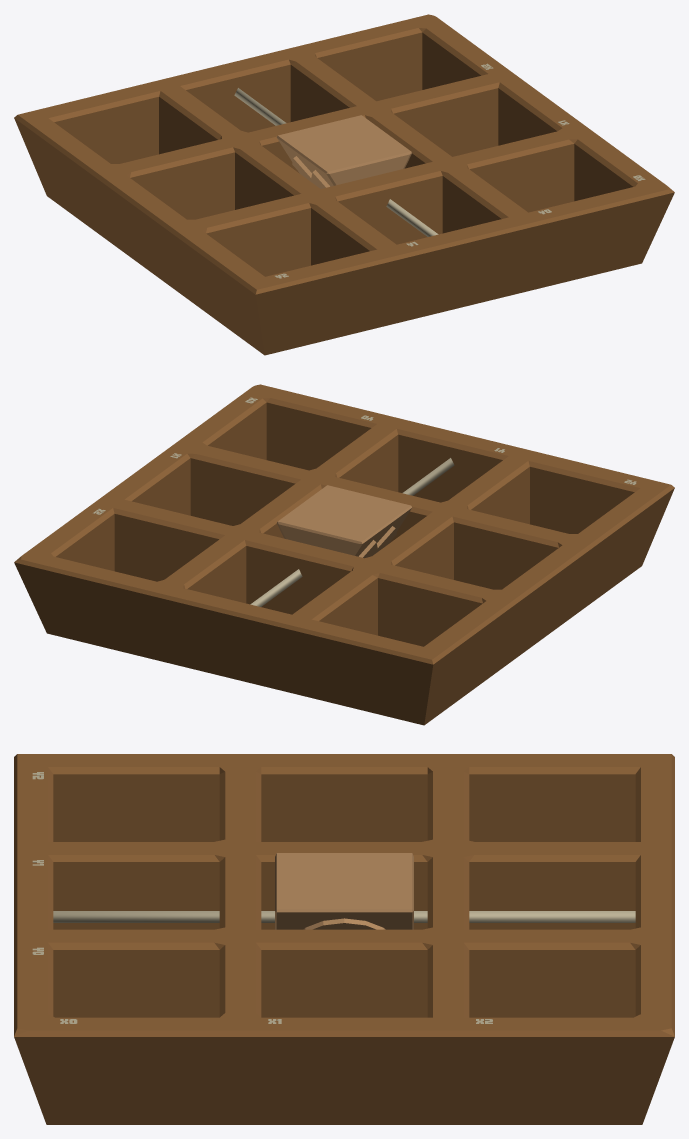
Rendered from tic-tac-toe.glb.
The picture shows the model from 3 angles, top to bottom: view 1: azimuth 30°, elevation 25°; view 2: azimuth 150°, elevation 25°; view 3: azimuth 270°, elevation 25°; orthographic projection. The views are drawn at different scales.
Parts seen in each view (by area): view 1: Box, XMesh, RodMesh; view 2: Box, XMesh, RodMesh; view 3: Box, XMesh, RodMesh, OMesh.
Part boxes in pixels (x1,y1,x2,y2): Box: (14,14,674,355); XMesh: (276,115,411,186); RodMesh: (234,88,438,236); Box: (14,384,674,725); XMesh: (277,485,412,556); RodMesh: (250,458,454,606); Box: (14,754,674,1124); XMesh: (275,853,413,929); RodMesh: (53,911,635,922); OMesh: (303,918,385,929).
Bounding box in the file's own units: 9.56 × 1.88 × 9.54.
